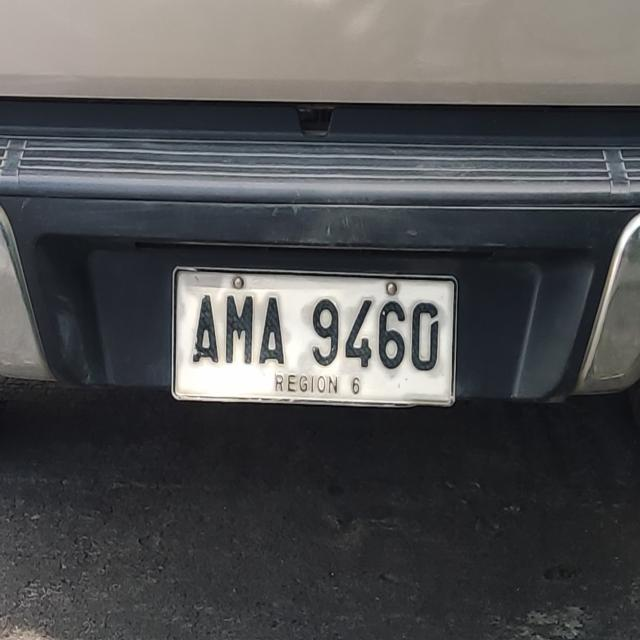plate: (168, 263, 460, 411)
